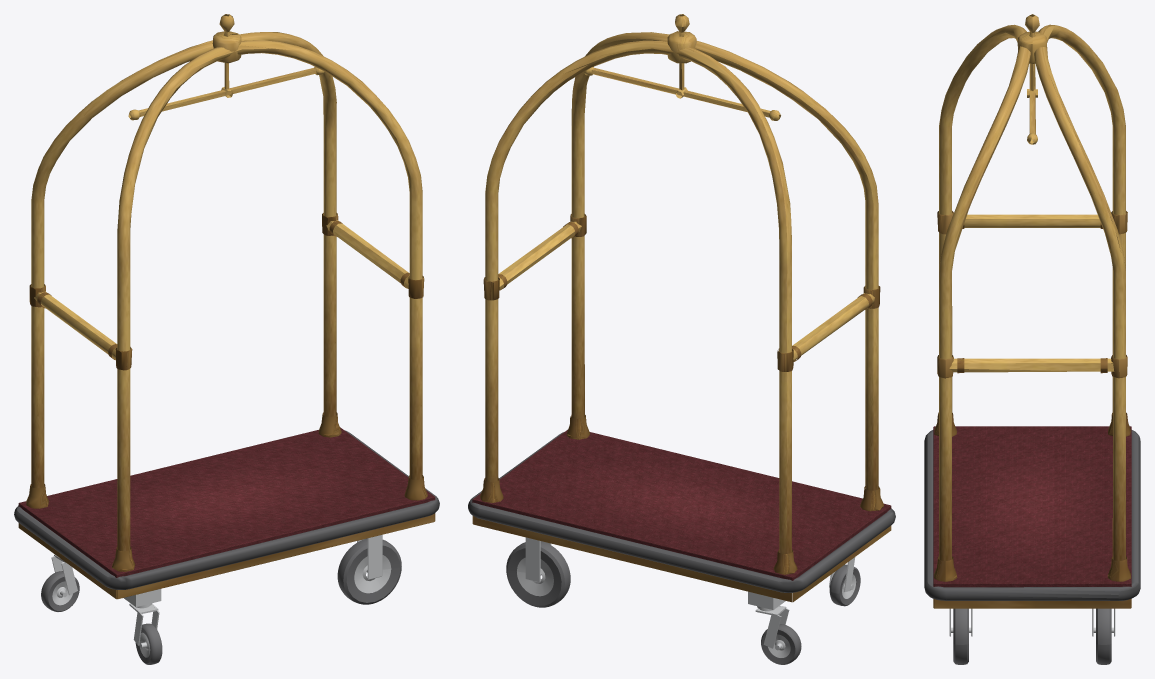
The model's file is hotel-luggage-cart-brass-mobile.glb.
3 renders of one model, left to right at view 1: azimuth 30°, elevation 25°; view 2: azimuth 150°, elevation 25°; view 3: azimuth 270°, elevation 25°, orthographic.
Parts seen in each view (by area): view 1: brass_worn, deck_carpet, grey_rubber, caster_l, caster_r, zinc_steel; view 2: brass_worn, deck_carpet, grey_rubber, caster_l, zinc_steel, caster_r; view 3: brass_worn, deck_carpet, grey_rubber.
Part boxes in pixels (left/top/right/bottom): brass_worn: left=18, top=14, right=435, bottom=599; deck_carpet: left=18, top=427, right=435, bottom=577; grey_rubber: left=14, top=430, right=439, bottom=604; caster_l: left=41, top=554, right=79, bottom=611; caster_r: left=129, top=603, right=162, bottom=664; zinc_steel: left=124, top=534, right=382, bottom=606; brass_worn: left=472, top=14, right=891, bottom=602; deck_carpet: left=472, top=429, right=891, bottom=580; grey_rubber: left=468, top=432, right=895, bottom=607; caster_l: left=755, top=605, right=801, bottom=664; zinc_steel: left=525, top=537, right=785, bottom=609; caster_r: left=829, top=557, right=860, bottom=606; brass_worn: left=933, top=14, right=1131, bottom=608; deck_carpet: left=933, top=426, right=1131, bottom=587; grey_rubber: left=924, top=430, right=1140, bottom=664.
Size of the model in its own units: 1.12 by 1.88 by 0.6218.
4 materials, 2 textured.
